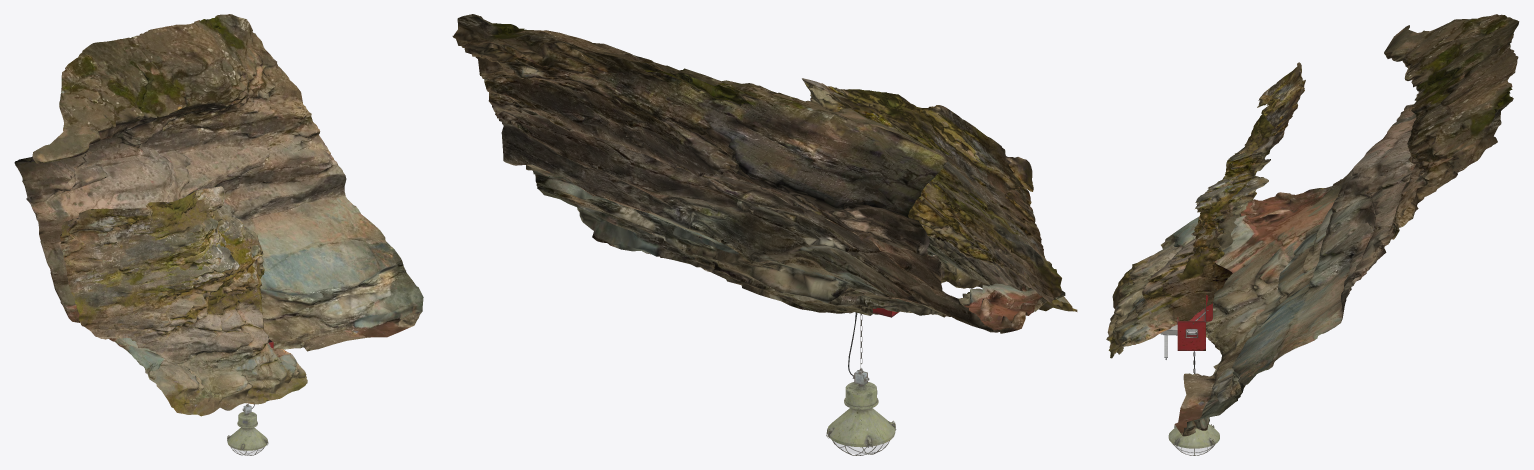
File: cave-kit.glb
3 views of the same model, side by side, from view 1: azimuth 30°, elevation 25°; view 2: azimuth 150°, elevation 25°; view 3: azimuth 270°, elevation 25° (orthographic). The views are drawn at different scales.
Visible parts, largest first — view 1: rock_face_01, rock_face_02, hanging_industrial_lamp; view 2: rock_face_01, rock_face_02, hanging_industrial_lamp; view 3: rock_face_01, rock_face_02, metal_tool_chest_chest, hanging_industrial_lamp.
Boxes of the visible parts, x1,y1,x2,y2 form: rock_face_01: [14, 14, 423, 380]; rock_face_02: [60, 186, 307, 416]; hanging_industrial_lamp: [227, 404, 268, 455]; rock_face_01: [452, 14, 1065, 333]; rock_face_02: [802, 78, 1077, 311]; hanging_industrial_lamp: [826, 312, 896, 455]; rock_face_01: [1161, 14, 1519, 436]; rock_face_02: [1106, 62, 1305, 358]; metal_tool_chest_chest: [1177, 295, 1212, 350]; hanging_industrial_lamp: [1168, 351, 1219, 455].
Size of the model in its own units: 5.08 by 4.87 by 4.4.
Materials: 9 (8 with a texture image).
